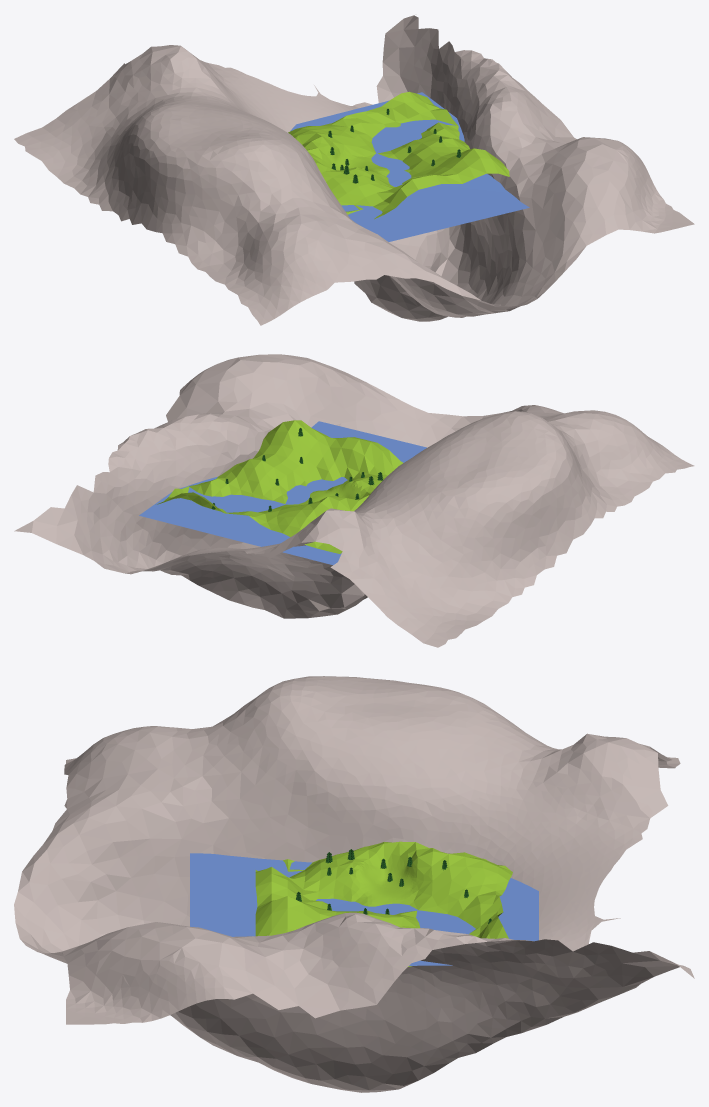
The model's file is tree.dae.
3 renders of one model, top to bottom at view 1: azimuth 30°, elevation 25°; view 2: azimuth 150°, elevation 25°; view 3: azimuth 270°, elevation 25°, orthographic. The views are drawn at different scales.
Visible parts, largest first — view 1: Plane; view 2: Plane; view 3: Plane.
Boxes of the visible parts, <box> form: Plane: <box>14,15,694,325</box>; Plane: <box>14,354,694,647</box>; Plane: <box>14,676,694,1092</box>.
Size of the model in its own units: 95.52 by 104 by 47.03.
